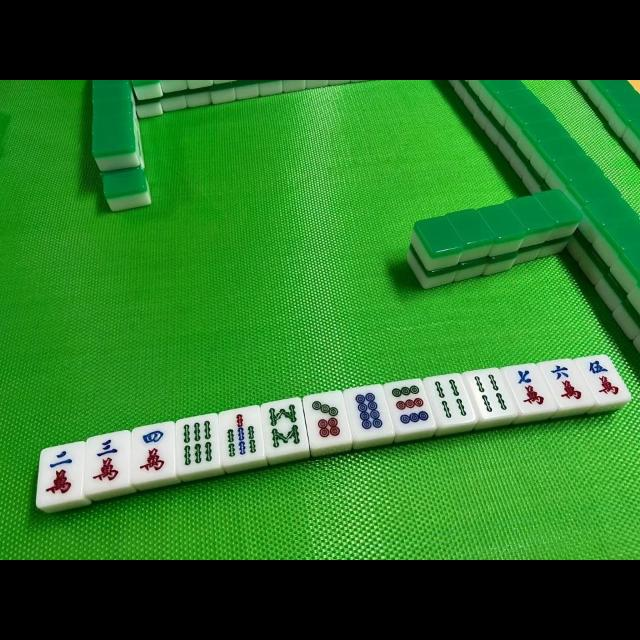b4: (427, 376, 473, 424), (469, 367, 511, 417)
b6: (175, 416, 221, 474)
b7: (220, 407, 266, 465)
b8: (262, 399, 308, 457)
c2: (34, 446, 84, 504)
c3: (86, 434, 130, 492)
c4: (132, 424, 174, 482)
c5: (582, 353, 626, 403)
c6: (545, 359, 585, 408)
c7: (509, 364, 548, 412)
d7: (305, 392, 351, 448)
d8: (347, 385, 391, 441)
d9: (387, 379, 433, 431)
